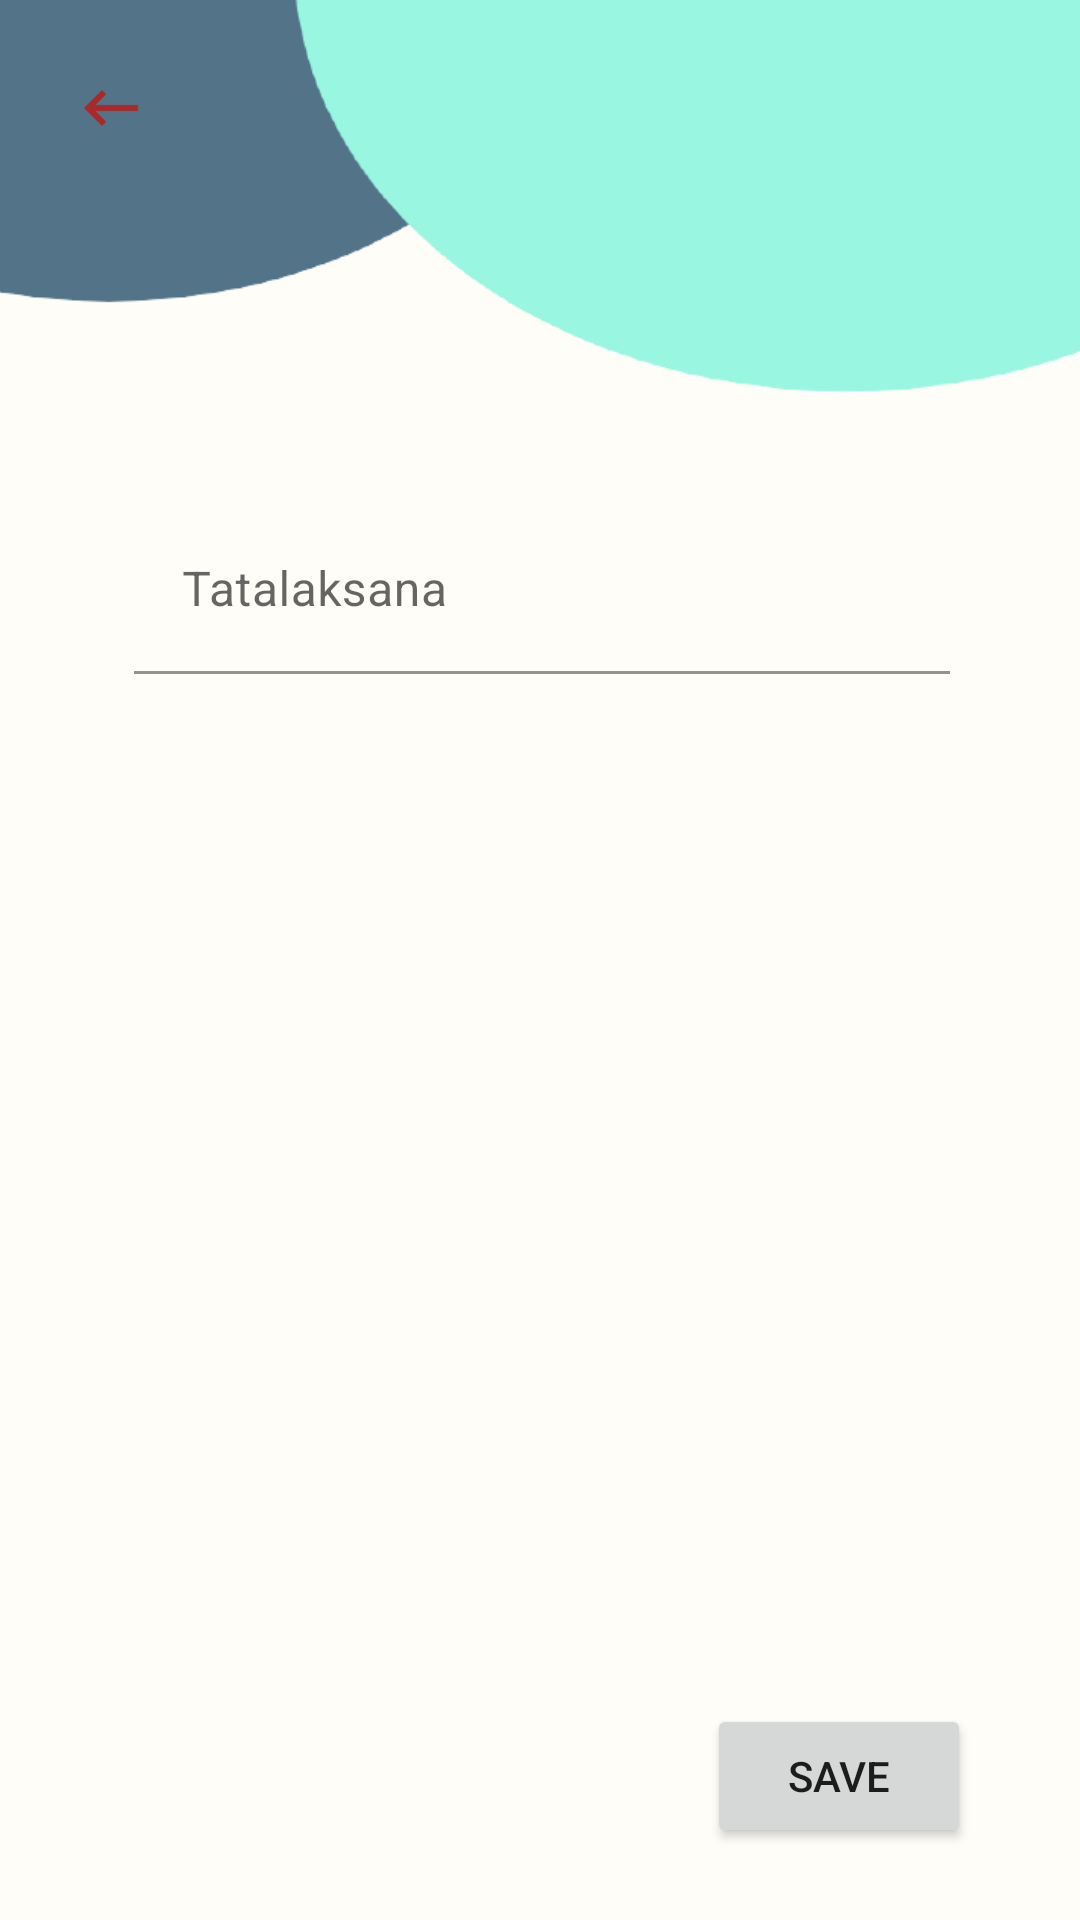

Named icons in this screenshot (1080px x 1920px) and their bounding boxes, bbox(x1, y1, x2, y2):
arrow back: bbox(84, 90, 138, 126)
